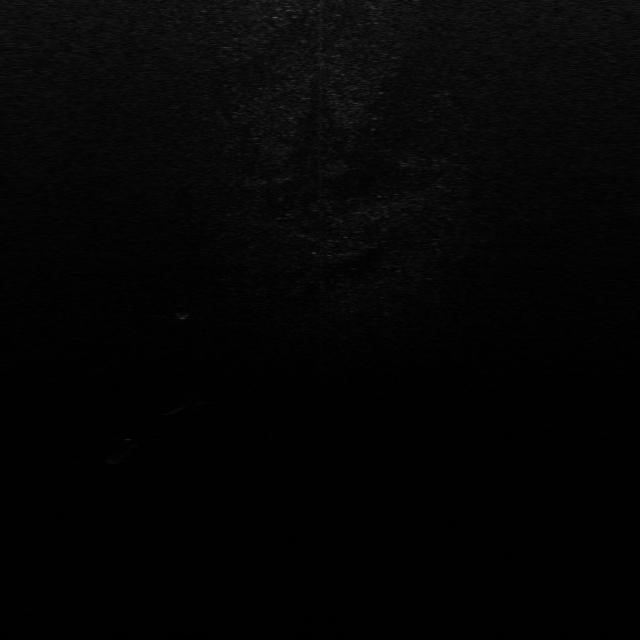ball: (176, 390, 210, 411)
circle cage: (170, 306, 196, 321)
tyre: (103, 436, 139, 466)
